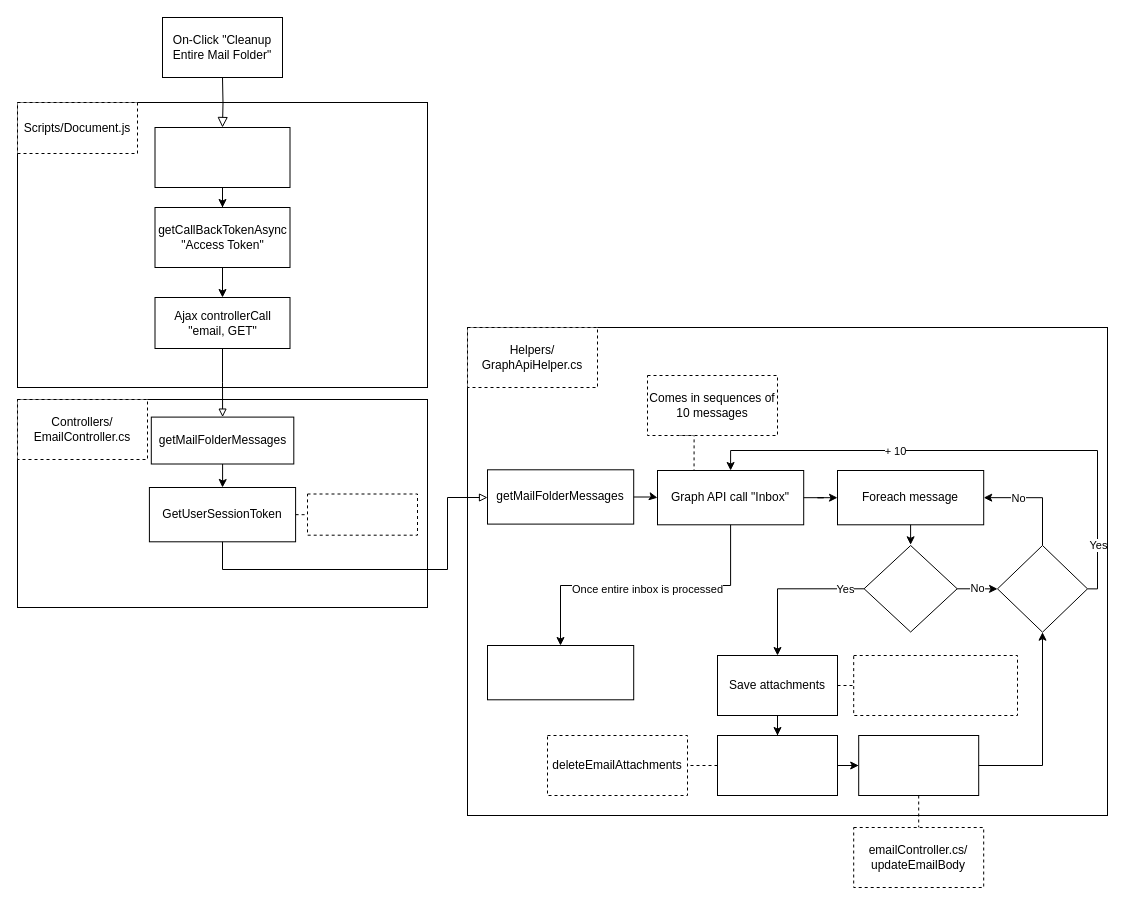
Some shapes in this 1125 by 905 pixel diagram are drawn without their labels. Each missing label, with the box of its shape:
Delete attachments from email: (716, 734, 838, 796)
Embed hyperlink to attachments' location: (858, 734, 979, 796)
From SQL Server: (306, 493, 418, 535)
Has Attachments?: (863, 544, 957, 632)
Last message?: (996, 544, 1088, 632)
mailFolderCleanup: (154, 126, 290, 188)
Return last collection of messages: (486, 644, 634, 700)
saveAttachmentOneDrive or saveAttachmentGoogleDrive: (853, 654, 1018, 716)
